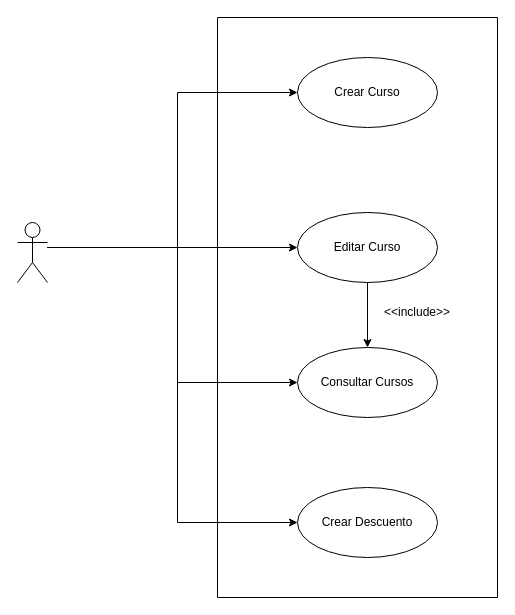
Some shapes in this 515 by 615 pixel diagram are drawn without their labels. Each missing label, with the centre of its shape:
"Actor" belongs at point (32, 252).
"CAPACITACIONES" belongs at point (357, 307).
